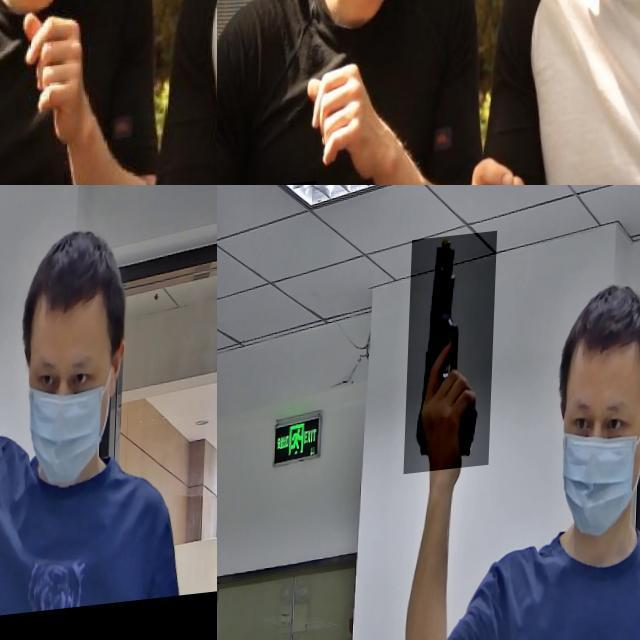gun-knife-thesis - v11 Yolov5 augmented: (406, 238, 498, 480), (0, 284, 33, 521)
